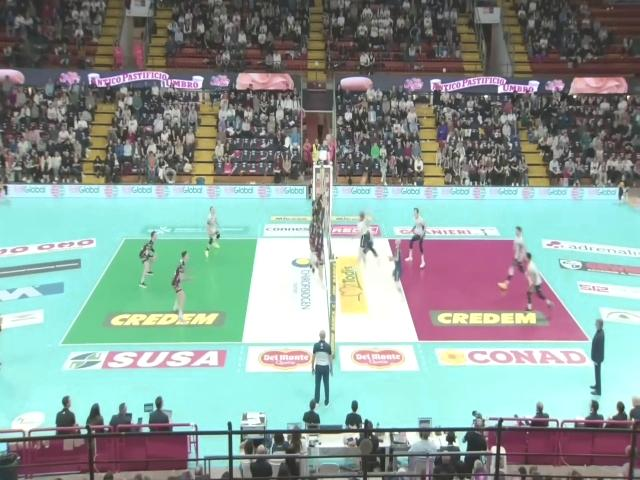volleyball court: (60, 236, 589, 347)
